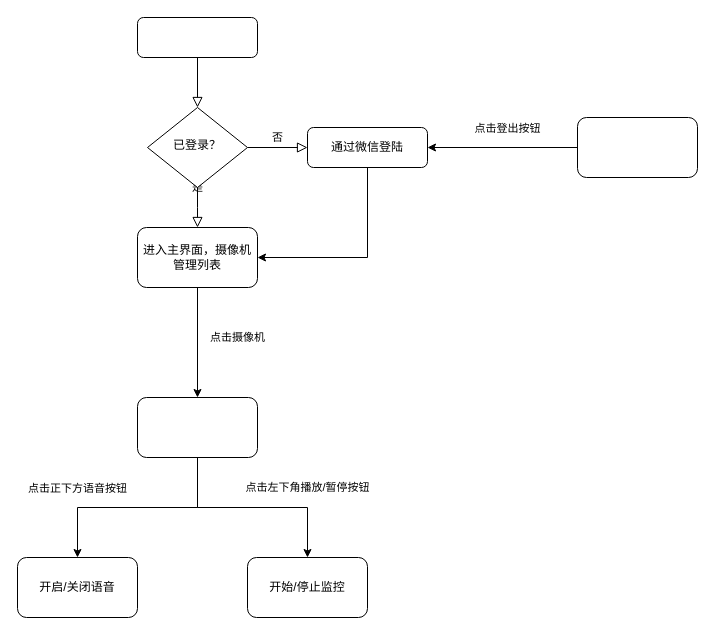
Some shapes in this 715 by 635 pixel diagram are drawn without their labels. The box of each missing label's shape, as (x1, y1, x2, y2) in pixels:
开始: (136, 16, 258, 58)
登陆后任意界面: (576, 116, 698, 178)
进入摄像机监控界面: (136, 396, 258, 458)
